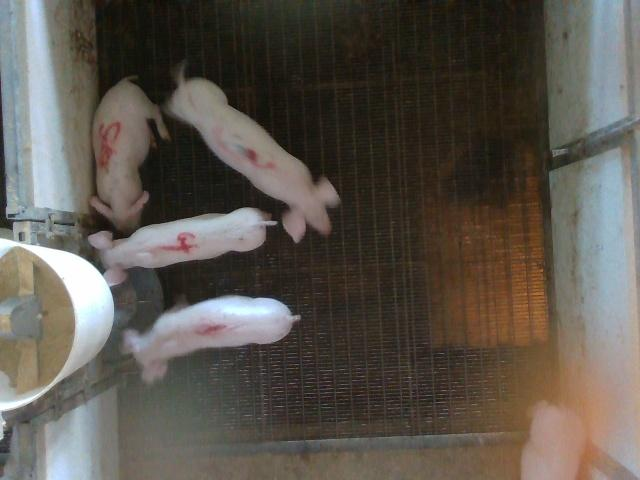pig-1: (122, 295, 300, 383)
pig-3: (165, 61, 340, 242)
pig-4: (89, 208, 276, 286)
pig-5: (91, 76, 170, 234)
